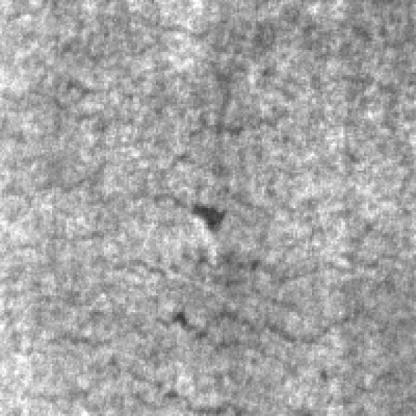crazing: (125, 314, 416, 416), (170, 81, 416, 196)
